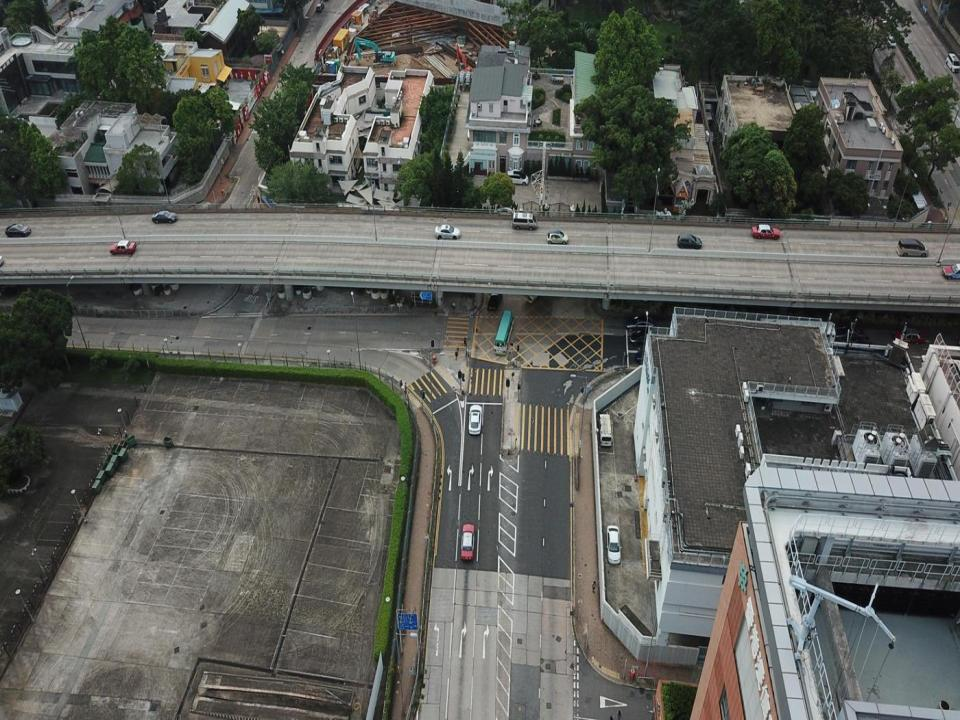bus: (493, 309, 514, 356)
car: (831, 326, 870, 347), (894, 326, 929, 346), (460, 522, 475, 559), (751, 223, 781, 241), (607, 524, 620, 564), (468, 402, 482, 436), (627, 313, 655, 330), (677, 232, 702, 251), (435, 224, 461, 241), (631, 329, 660, 344), (110, 239, 136, 255), (5, 224, 31, 240), (506, 170, 528, 187), (634, 347, 660, 361), (546, 230, 568, 246), (943, 262, 960, 282), (151, 211, 177, 223), (487, 290, 502, 310), (887, 34, 896, 47), (316, 3, 324, 13)
van: (896, 236, 930, 260), (600, 412, 614, 450), (512, 212, 538, 229), (946, 53, 959, 73)
